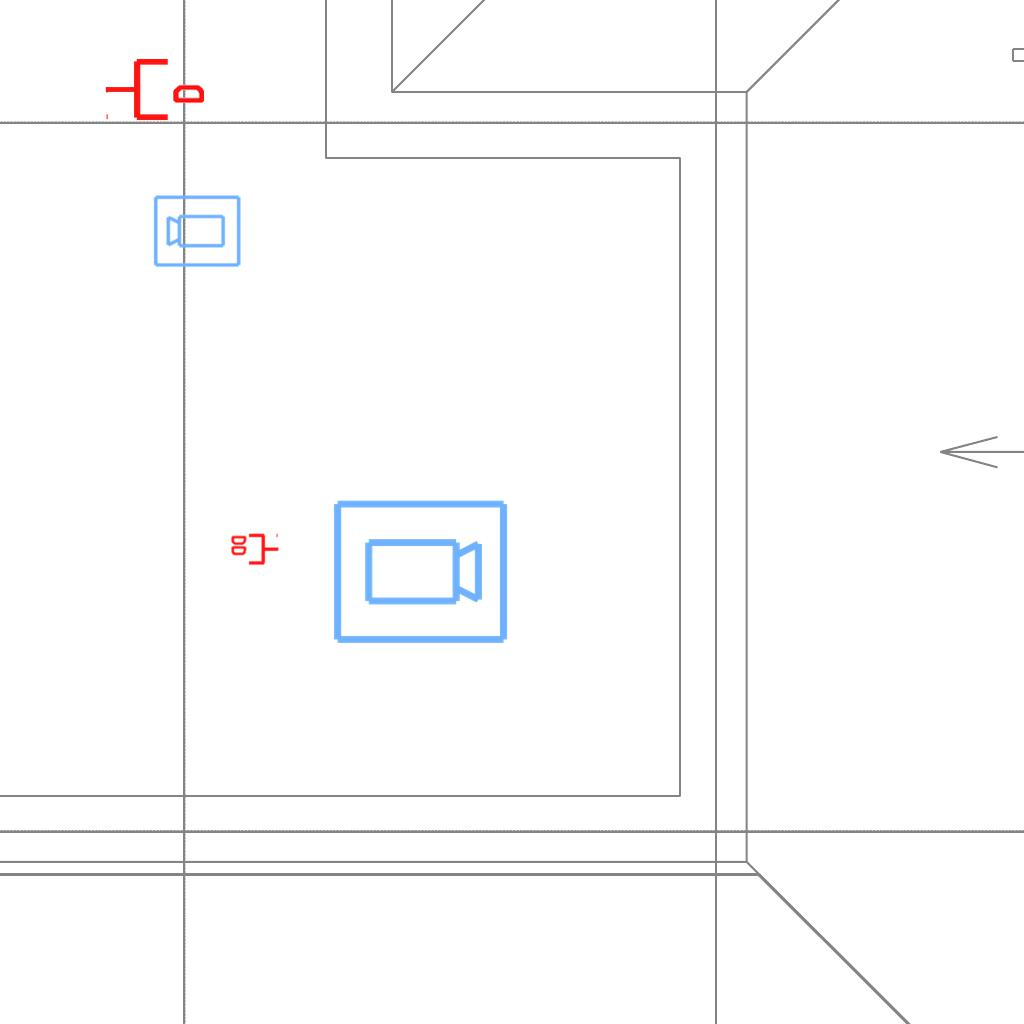Datenanschluss_einfach: (104, 55, 204, 124)
Datenanschluss_zweifach: (229, 533, 280, 567)
KFO_Kamera_mit_Festobjektiv: (329, 496, 511, 650), (152, 192, 243, 269)
